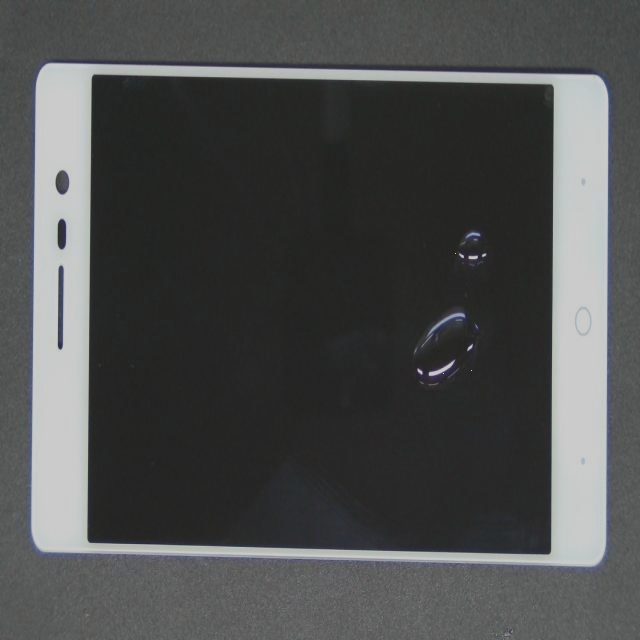oil: (200, 169, 625, 554), (253, 117, 640, 330)
